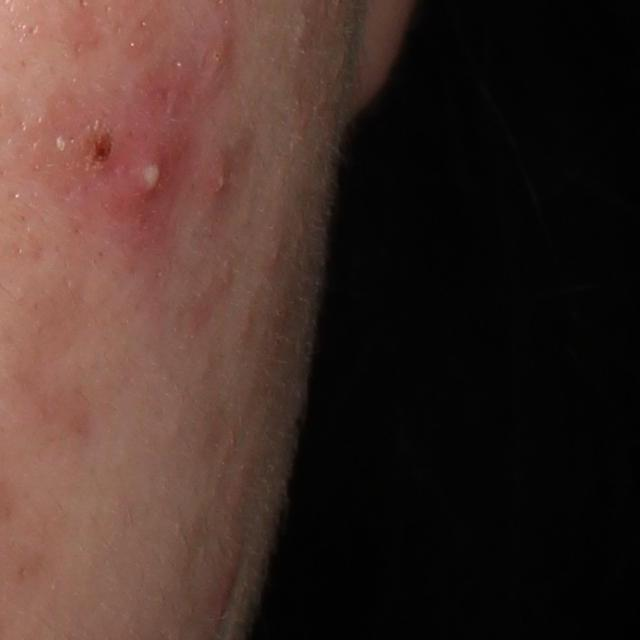papule: (202, 149, 238, 202)
pustule: (118, 137, 175, 226)
